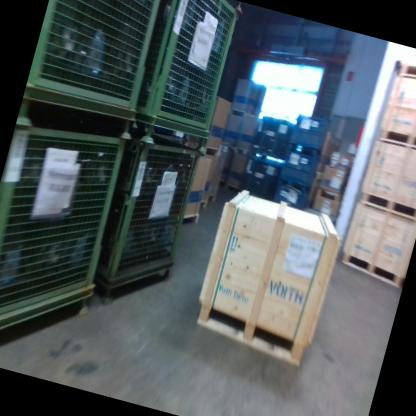pallet: (195, 141, 220, 163), (179, 210, 200, 231), (227, 104, 246, 119), (233, 143, 253, 157), (222, 183, 240, 198), (214, 173, 229, 189), (195, 196, 207, 212), (205, 190, 217, 205), (227, 143, 235, 160)
stillage: (0, 100, 139, 385), (89, 124, 212, 329), (15, 0, 168, 161), (135, 0, 245, 137), (286, 105, 334, 156), (276, 146, 320, 192), (270, 183, 310, 215)
